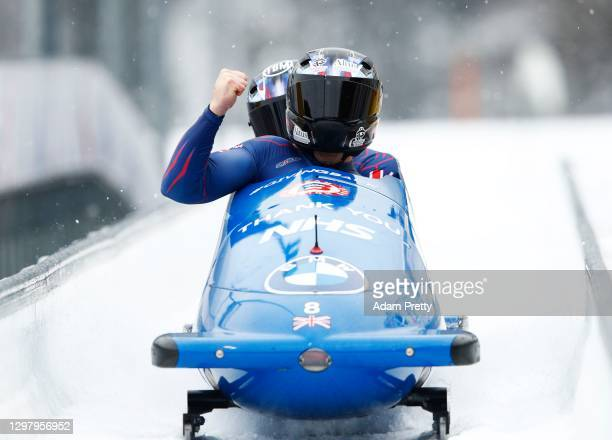Bobsleigh: (151, 173, 479, 436)
